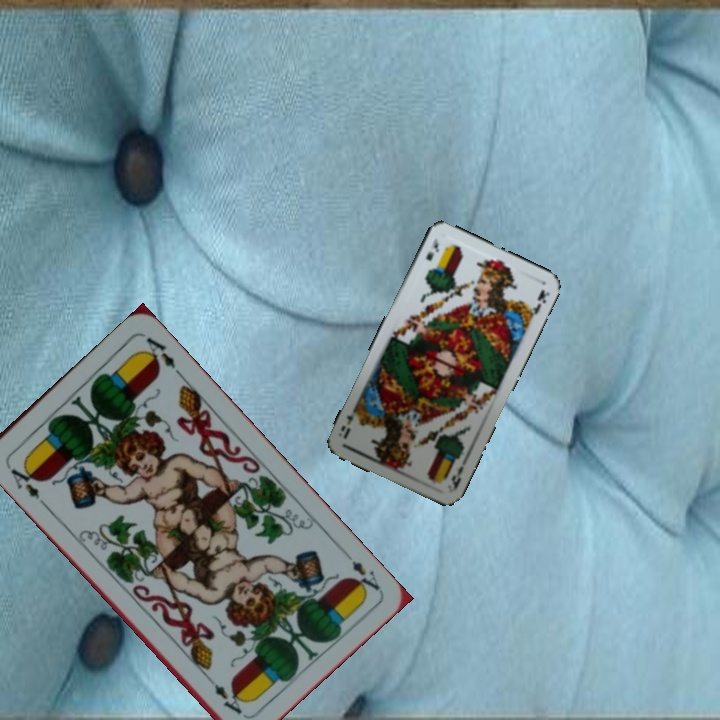EA: (340, 546, 383, 597), (6, 459, 48, 508)
EK: (447, 462, 466, 492), (422, 235, 441, 263)
